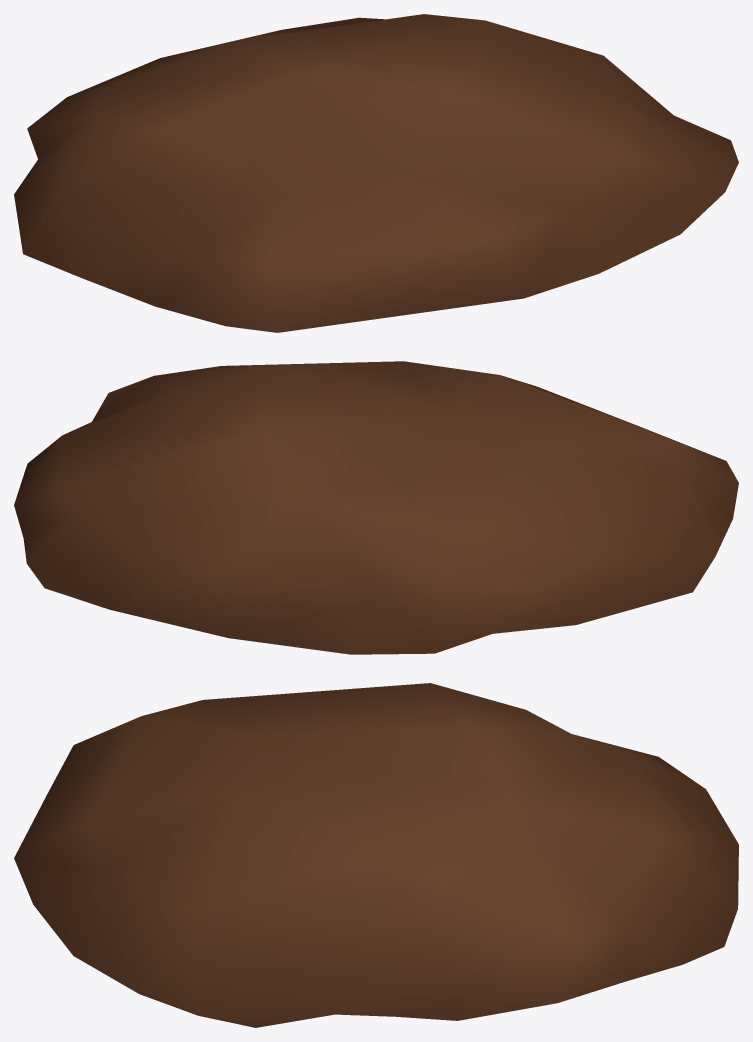
File: SM_PlantSoil_A.fbx
The picture shows the model from 3 angles, top to bottom: view 1: azimuth 30°, elevation 25°; view 2: azimuth 150°, elevation 25°; view 3: azimuth 270°, elevation 25°; orthographic projection. The views are drawn at different scales.
Visible parts, largest first — view 1: SM_PlantSoil_A; view 2: SM_PlantSoil_A; view 3: SM_PlantSoil_A.
Boxes of the visible parts, box(x1,y1,x2,y2) form: SM_PlantSoil_A: box(14, 14, 738, 332); SM_PlantSoil_A: box(14, 361, 738, 654); SM_PlantSoil_A: box(14, 683, 738, 1027).
Size of the model in its own units: 118 by 10.15 by 106.
